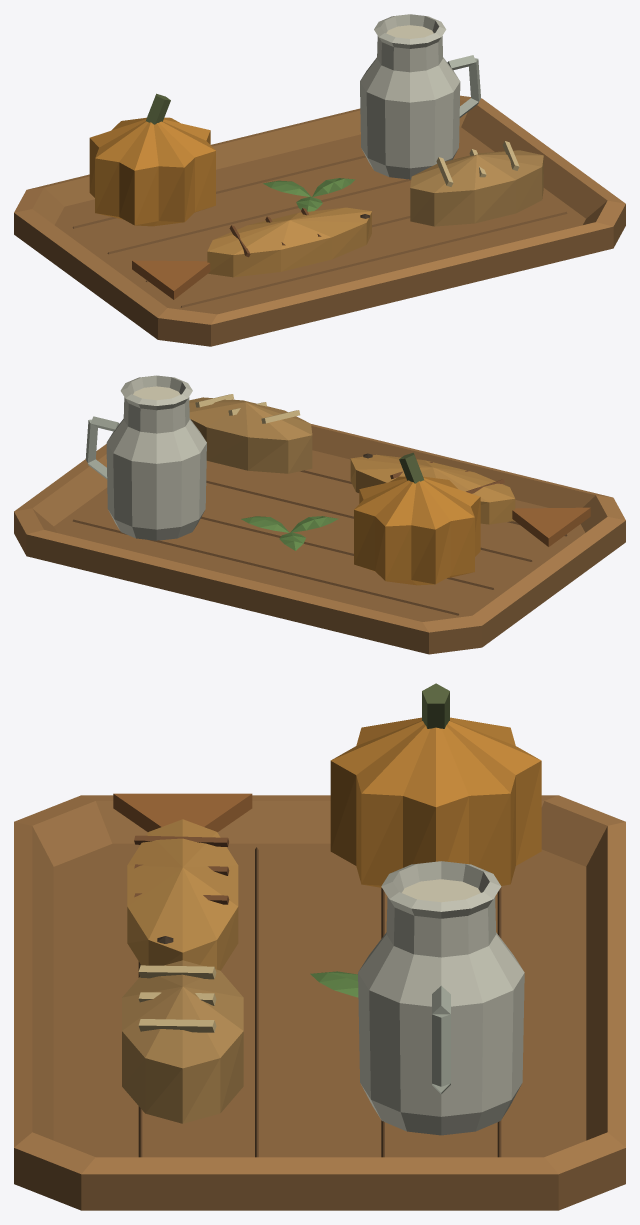
File: feast_harvest.glb
The picture shows the model from 3 angles, top to bottom: view 1: azimuth 30°, elevation 25°; view 2: azimuth 150°, elevation 25°; view 3: azimuth 270°, elevation 25°; orthographic projection. The views are drawn at different scales.
Parts seen in each view (by area): view 1: food; view 2: food; view 3: food.
Part boxes in pixels (bbox=[...]): food: bbox=[14, 14, 625, 346]; food: bbox=[14, 375, 625, 654]; food: bbox=[14, 683, 625, 1210].
Size of the model in its own units: 0.85 by 0.265 by 0.58.
